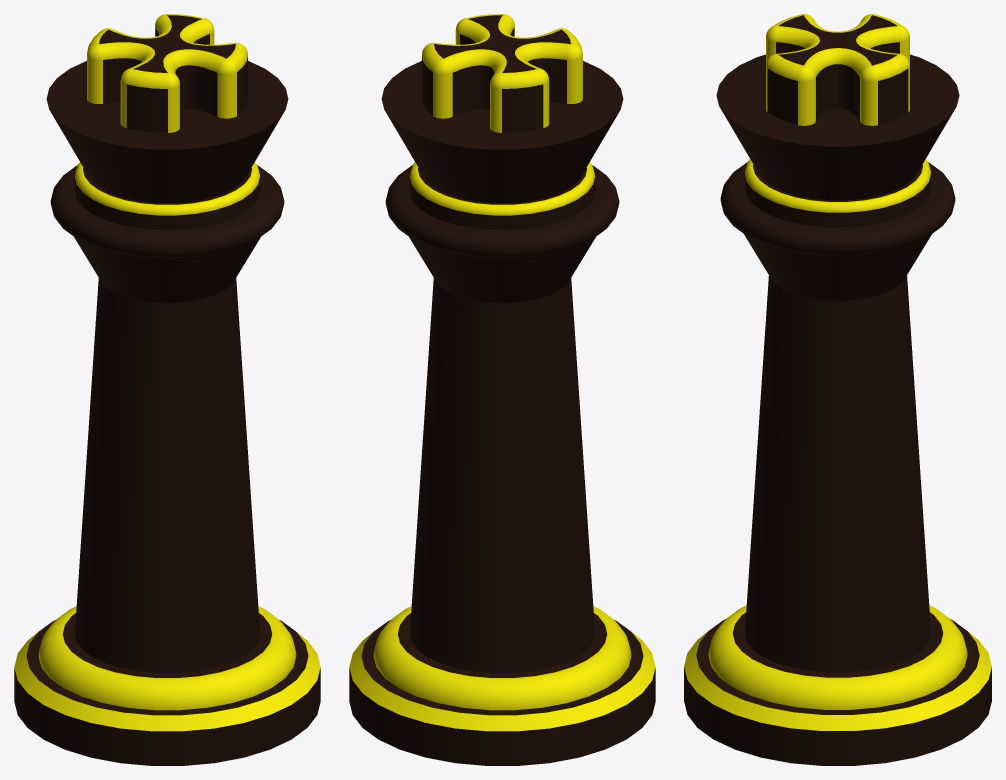
File: Premium_B_King.gltf
3 renders of one model, left to right at view 1: azimuth 30°, elevation 25°; view 2: azimuth 150°, elevation 25°; view 3: azimuth 270°, elevation 25°, orthographic.
Parts seen in each view (by area): view 1: King Black; view 2: King Black; view 3: King Black.
Part boxes in pixels (bbox=[...]): King Black: bbox=[14, 14, 320, 765]; King Black: bbox=[349, 14, 655, 765]; King Black: bbox=[684, 14, 991, 765].
Bounding box in the file's own units: 0.0288 × 0.0686 × 0.029.
